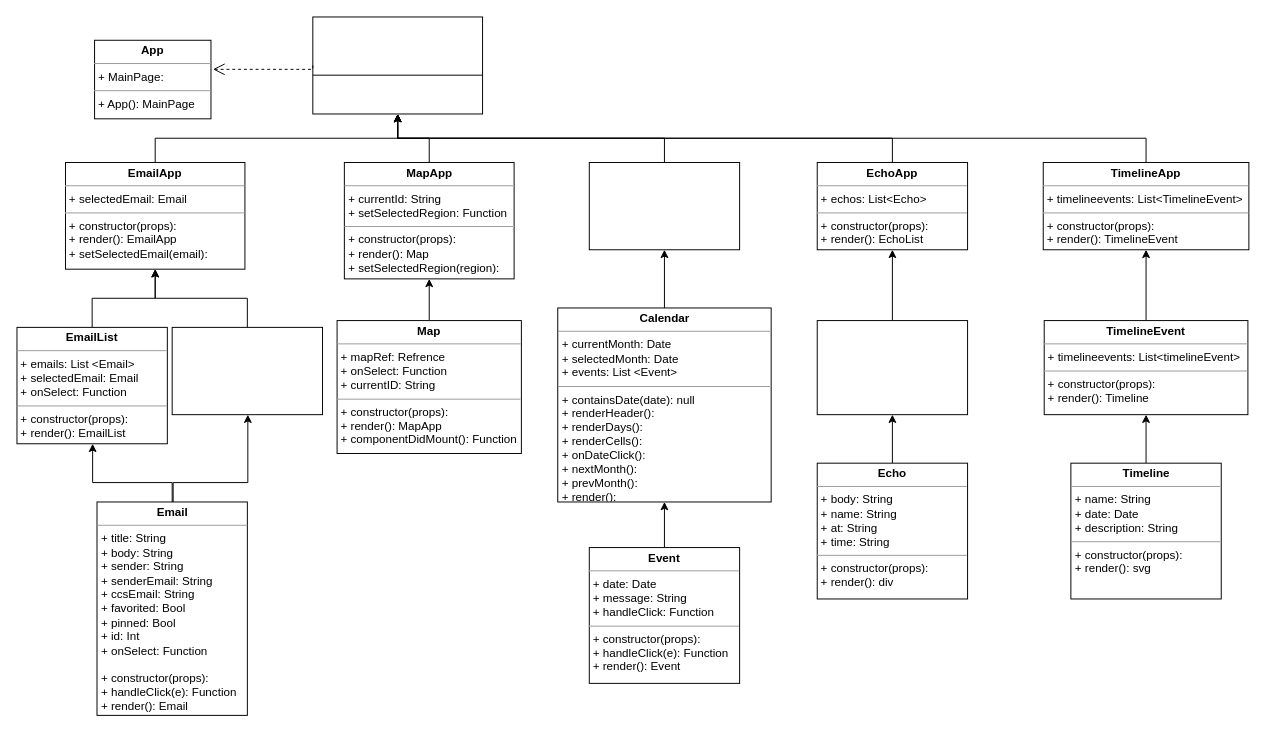
Image size: 1266x732. Some labels were removed from this diagram. The box of each missing label's shape, as (x1, y1, x2, y2) in pixels:
CalendarApp + events: List<Event> + constructor(props): + render(): Calendar: (588, 162, 740, 250)
EchoList + echos: List<Echo> + constructor(props): + render(): Echo: (816, 320, 968, 415)
EmailReader + email: Email + constructor(props): + render(): EmailReader: (171, 326, 323, 415)
MainPage + render(): MainPage + EventPopUp(props) : div: (312, 16, 483, 114)
